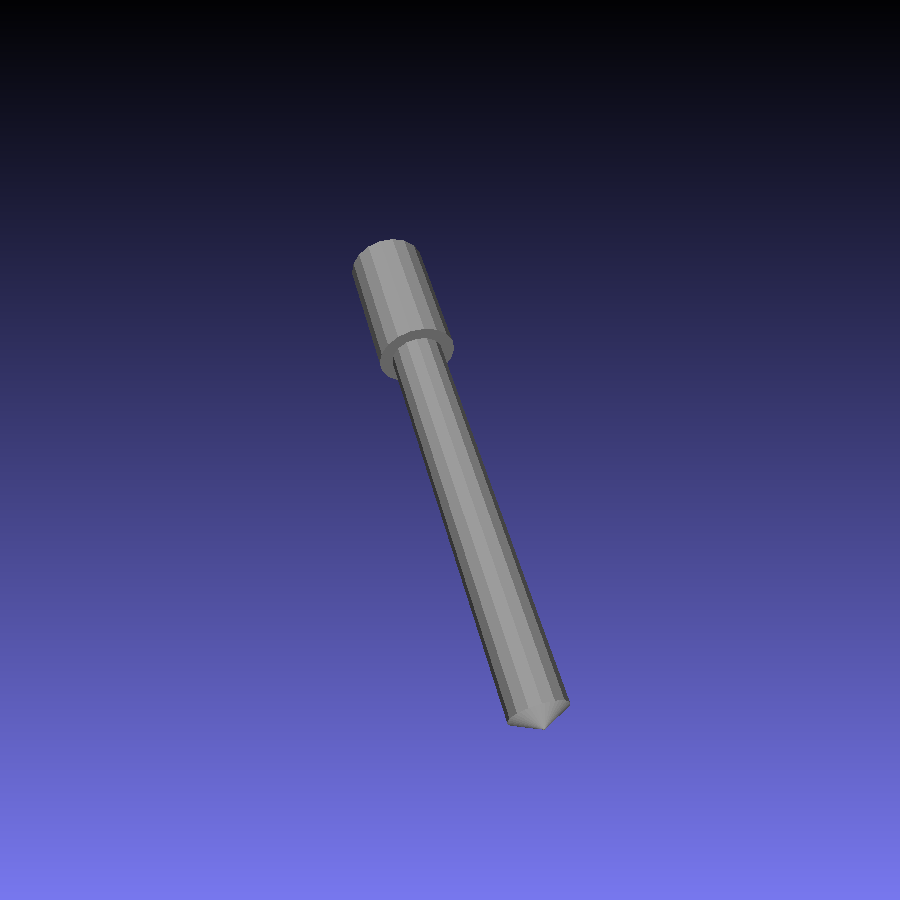cargo_g: (352, 240, 568, 730)
